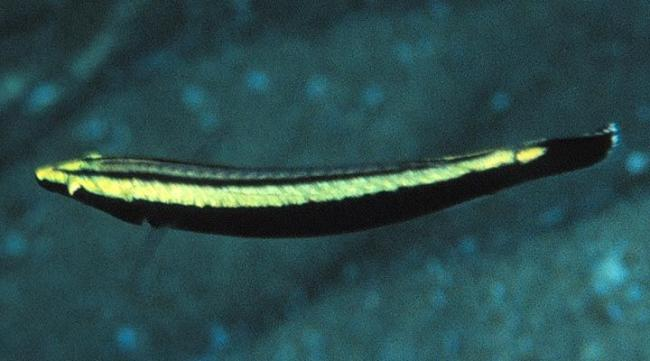fish: (34, 121, 623, 240)
